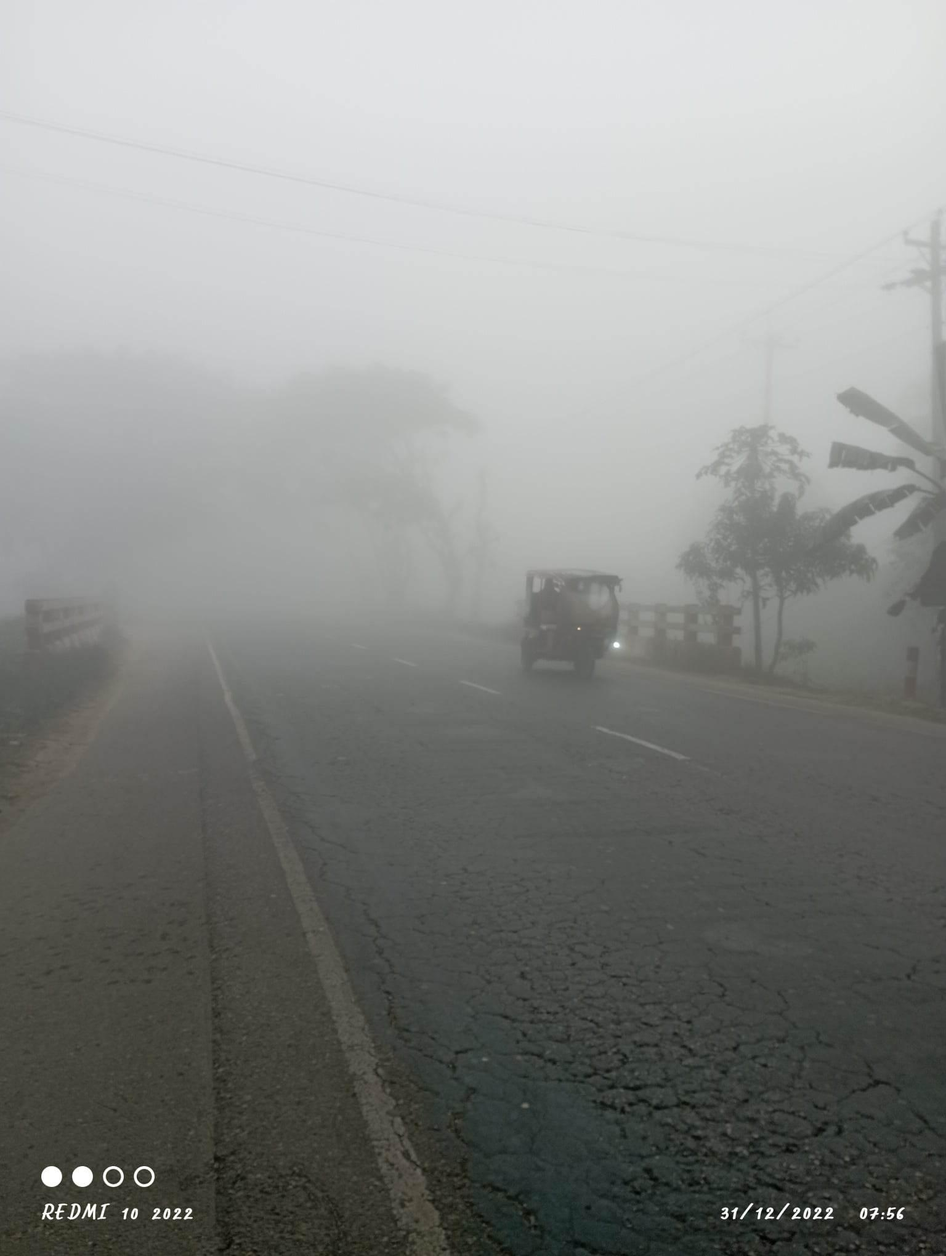Car: (496, 536, 645, 694)
